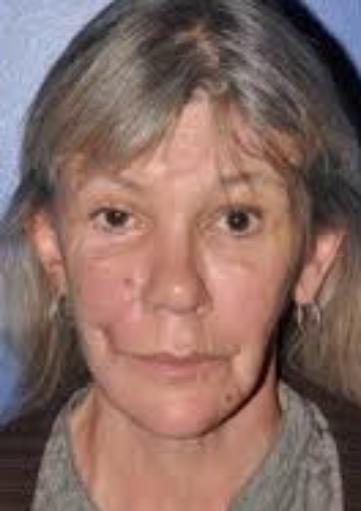left_eye: (208, 209, 265, 240)
left_lip_corner: (213, 347, 246, 371)
right_eye: (89, 206, 150, 237)
right_lip_corner: (108, 341, 139, 367)
